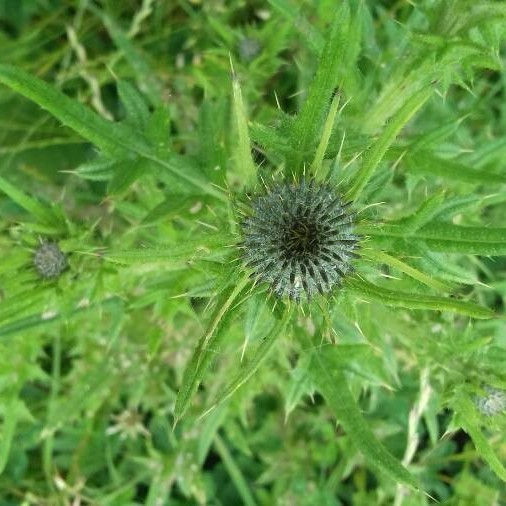obstacle: (59, 41, 484, 469)
